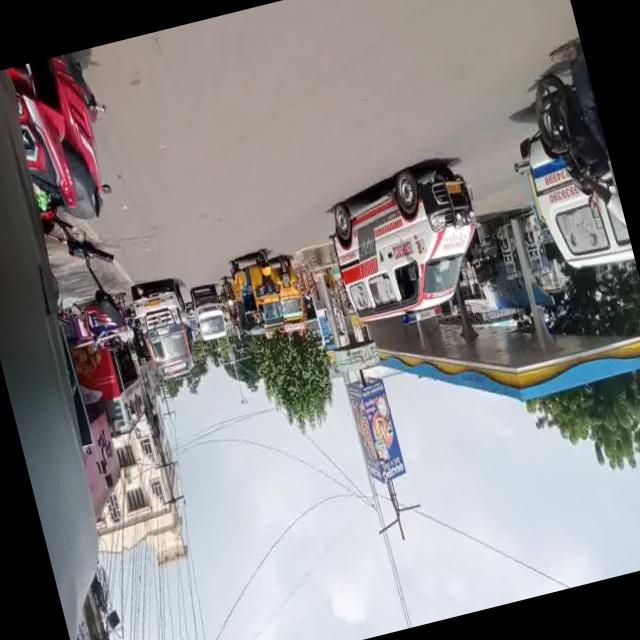ambulance: (309, 150, 489, 331), (506, 109, 633, 297), (132, 277, 197, 385)
